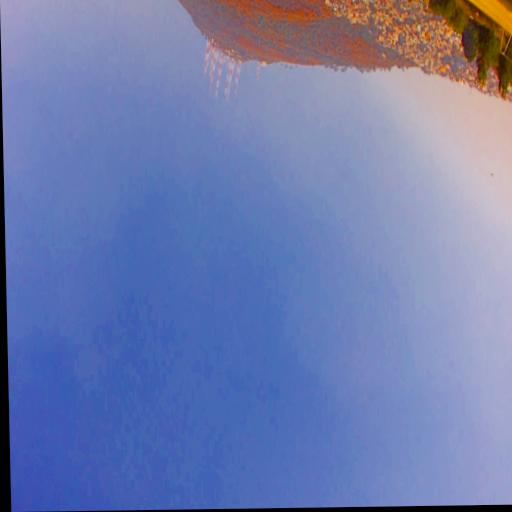drones: (489, 171, 495, 179)
